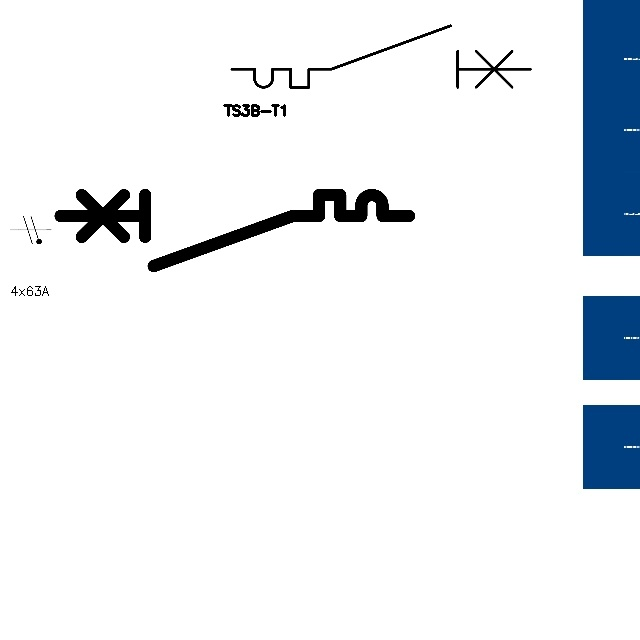interruptor_termomagnetico: (51, 186, 417, 275), (224, 18, 537, 95)
